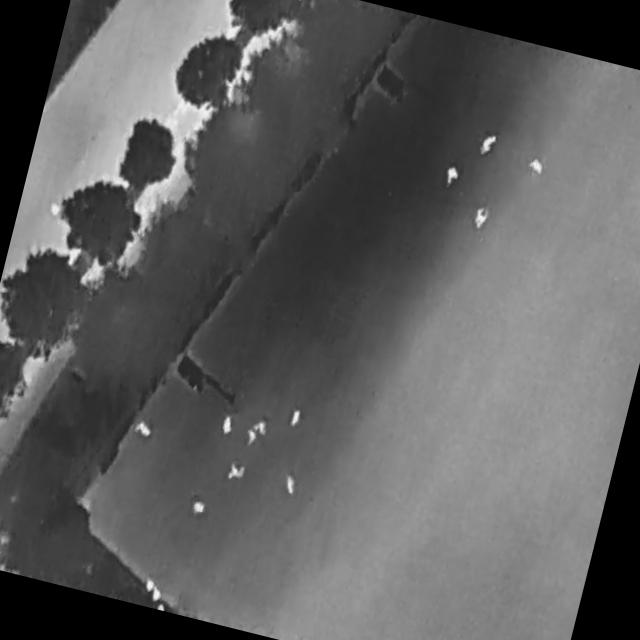person: (475, 127, 502, 162), (470, 203, 494, 234), (279, 470, 301, 499), (525, 153, 549, 179), (131, 417, 156, 441), (217, 413, 238, 440), (225, 461, 248, 484), (444, 164, 462, 188), (286, 408, 303, 431), (190, 498, 208, 517), (253, 420, 271, 438), (242, 427, 258, 447)
